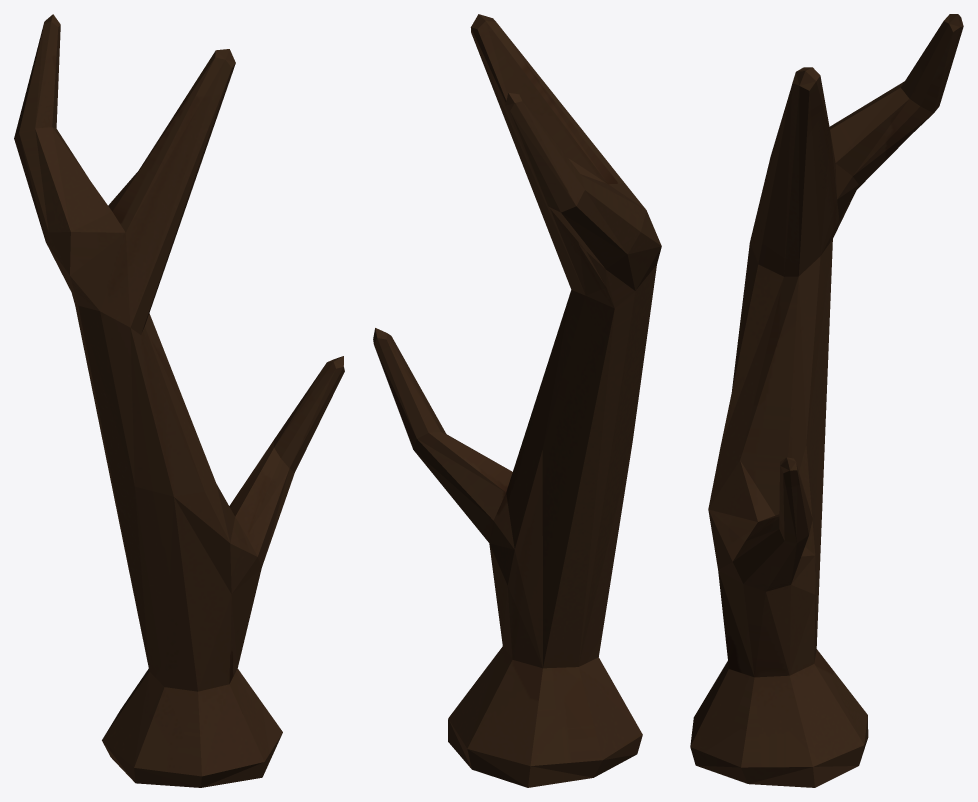
File: tree11rot.obj
3 views of the same model, side by side, from view 1: azimuth 30°, elevation 25°; view 2: azimuth 150°, elevation 25°; view 3: azimuth 270°, elevation 25° (orthographic). The views are drawn at different scales.
Visible parts, largest first — view 1: Tree11Rot_Plane.015; view 2: Tree11Rot_Plane.015; view 3: Tree11Rot_Plane.015.
Part boxes in pixels (x1,y1,x2,y2): Tree11Rot_Plane.015: [14, 14, 344, 787]; Tree11Rot_Plane.015: [373, 14, 661, 787]; Tree11Rot_Plane.015: [690, 14, 963, 787].
Bounding box in the file's own units: 1.73 × 4.18 × 1.46.
Materials: 1 (1 with a texture image).
